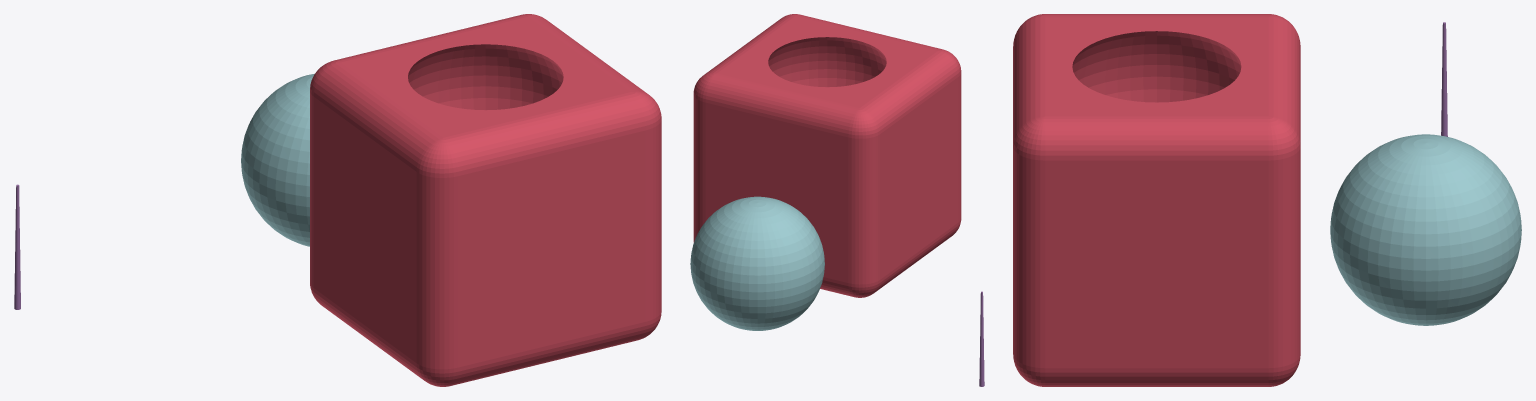
The model's file is Terrific Luulia-Kasi.glb.
The picture shows the model from 3 angles, left to right: view 1: azimuth 30°, elevation 25°; view 2: azimuth 150°, elevation 25°; view 3: azimuth 270°, elevation 25°; orthographic projection. The views are drawn at different scales.
Visible parts, largest first — view 1: Mesh_Mesh_head_geo.001_lambert2SG.001; view 2: Mesh_Mesh_head_geo.001_lambert2SG.001; view 3: Mesh_Mesh_head_geo.001_lambert2SG.001.
Part boxes in pixels (left/top/right/bottom): Mesh_Mesh_head_geo.001_lambert2SG.001: left=14, top=14, right=661, bottom=386; Mesh_Mesh_head_geo.001_lambert2SG.001: left=690, top=14, right=984, bottom=386; Mesh_Mesh_head_geo.001_lambert2SG.001: left=1013, top=14, right=1521, bottom=386.
Size of the model in its own units: 0.078 by 0.04 by 0.069.
